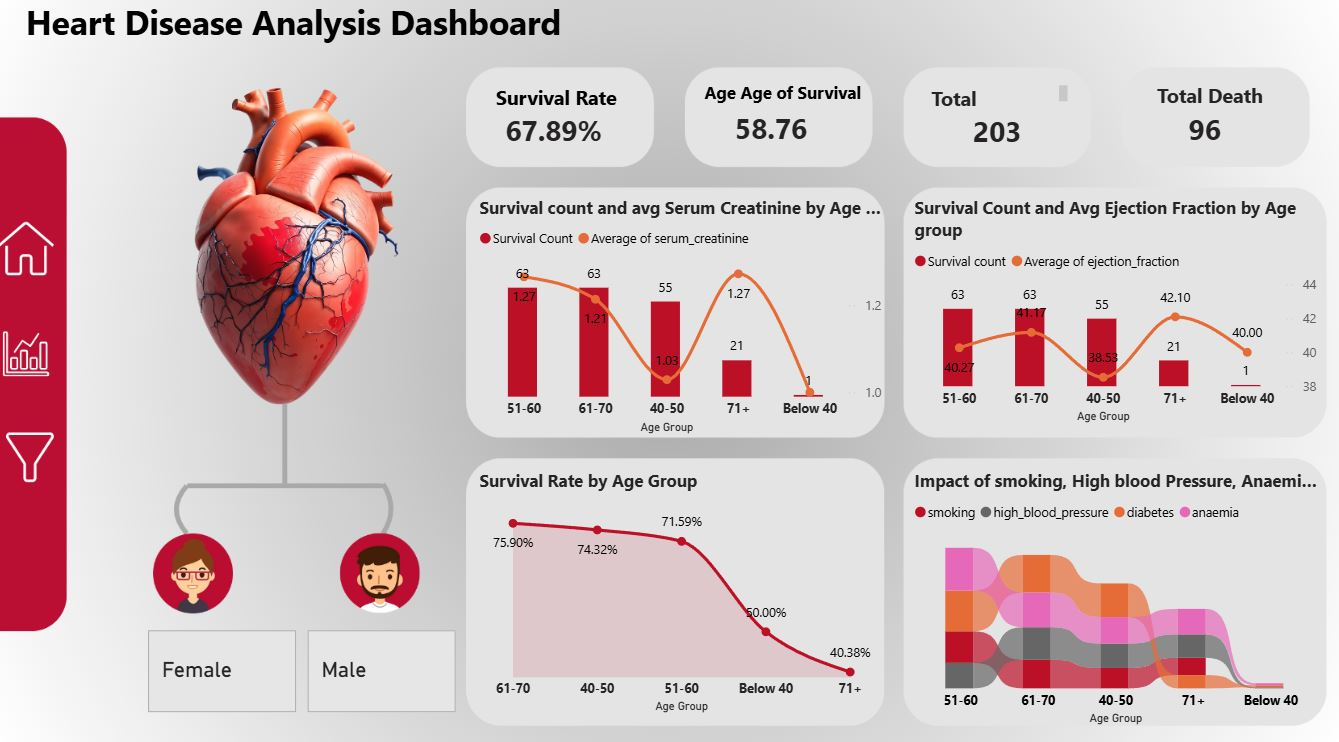

The dashboard page shown, as its layout file describes it:
{"tool":"powerbi","page":{"name":"Heart Disease Dashboard","canvas":[1280,720],"ordinal":0},"visuals":[{"type":"textbox","box":[0,0,688.8,78.3],"z":0},{"type":"card","fields":{"Values":["Measures (2).Survival Rate"]},"box":[402.3,95.1,253.9,72.1],"z":1000},{"type":"card","fields":{"Values":["Measures (2).Avg age survival"]},"box":[610,87,253.9,83.7],"z":2000},{"type":"card","fields":{"Values":["Measures (2).Total Survivors"]},"box":[823.5,86.8,256,89.6],"z":3000},{"type":"card","fields":{"Values":["Measures (2).Total Deaths"]},"box":[1079.5,96.7,139.4,66.8],"z":4000},{"type":"textbox","box":[468.7,80.6,141.4,36.1],"z":6000},{"type":"textbox","box":[668.4,76.8,180.6,35.6],"z":7000},{"type":"textbox","box":[883.3,81.6,139.9,36.1],"z":8000},{"type":"textbox","box":[1099.4,78.2,139.4,35.6],"z":9000},{"type":"lineClusteredColumnComboChart","title":"Survival count and avg Serum Creatinine by Age Group","fields":{"Category":["heart_Disease_clinical_records_.Age Group"],"Y":["CountNonNull(heart_Disease_clinical_records_.DEATH_EVENT)"],"Y2":["Avg(heart_Disease_clinical_records_.serum_creatinine)"]},"box":[453.7,192,395.4,231.8],"z":10000},{"type":"lineClusteredColumnComboChart","title":"Survival Count and Avg Ejection Fraction by Age group","fields":{"Category":["heart_Disease_clinical_records_.Age Group"],"Y":["CountNonNull(heart_Disease_clinical_records_.DEATH_EVENT)"],"Y2":["Avg(heart_Disease_clinical_records_.ejection_fraction)"]},"box":[867.6,192,394,221.9],"z":11000},{"type":"lineChart","fields":{"Category":["heart_Disease_clinical_records_.Age Group"],"Y":["Measures (2).Survival Rate"]},"box":[453.7,452.3,395.4,237.5],"z":12000},{"type":"ribbonChart","title":"Impact of smoking, High blood Pressure, Anaemia & Diabetes by age group","fields":{"Category":["heart_Disease_clinical_records_.Age Group"],"Y":["Sum(heart_Disease_clinical_records_.smoking)","Sum(heart_Disease_clinical_records_.high_blood_pressure)","Sum(heart_Disease_clinical_records_.diabetes)","Sum(heart_Disease_clinical_records_.anaemia)"]},"box":[867.6,452.3,394,248.9],"z":13000},{"type":"advancedSlicerVisual","fields":{"Values":["heart_Disease_clinical_records_.Gender"]},"box":[138,605.9,298.7,83.9],"z":14000}]}

Visuals, with their boxes in screenshot pixels (x1, y1, x2, y2), scaled from the page's 1280x720 canvas onto the 1339x742 screenshot:
textbox: pyautogui.locateOnScreen(0, 0, 721, 81)
card - Measures (2).Survival Rate: pyautogui.locateOnScreen(421, 98, 686, 172)
card - Measures (2).Avg age survival: pyautogui.locateOnScreen(638, 90, 904, 176)
card - Measures (2).Total Survivors: pyautogui.locateOnScreen(861, 89, 1129, 182)
card - Measures (2).Total Deaths: pyautogui.locateOnScreen(1129, 100, 1275, 168)
textbox: pyautogui.locateOnScreen(490, 83, 638, 120)
textbox: pyautogui.locateOnScreen(699, 79, 888, 116)
textbox: pyautogui.locateOnScreen(924, 84, 1070, 121)
textbox: pyautogui.locateOnScreen(1150, 81, 1296, 117)
"Survival count and avg Serum Creatinine by Age Group" lineClusteredColumnComboChart: pyautogui.locateOnScreen(475, 198, 888, 437)
"Survival Count and Avg Ejection Fraction by Age group" lineClusteredColumnComboChart: pyautogui.locateOnScreen(908, 198, 1320, 427)
lineChart - heart_Disease_clinical_records_.Age Group x Measures (2).Survival Rate: pyautogui.locateOnScreen(475, 466, 888, 711)
"Impact of smoking, High blood Pressure, Anaemia & Diabetes by age group" ribbonChart: pyautogui.locateOnScreen(908, 466, 1320, 723)
advancedSlicerVisual - heart_Disease_clinical_records_.Gender: pyautogui.locateOnScreen(144, 624, 457, 711)
